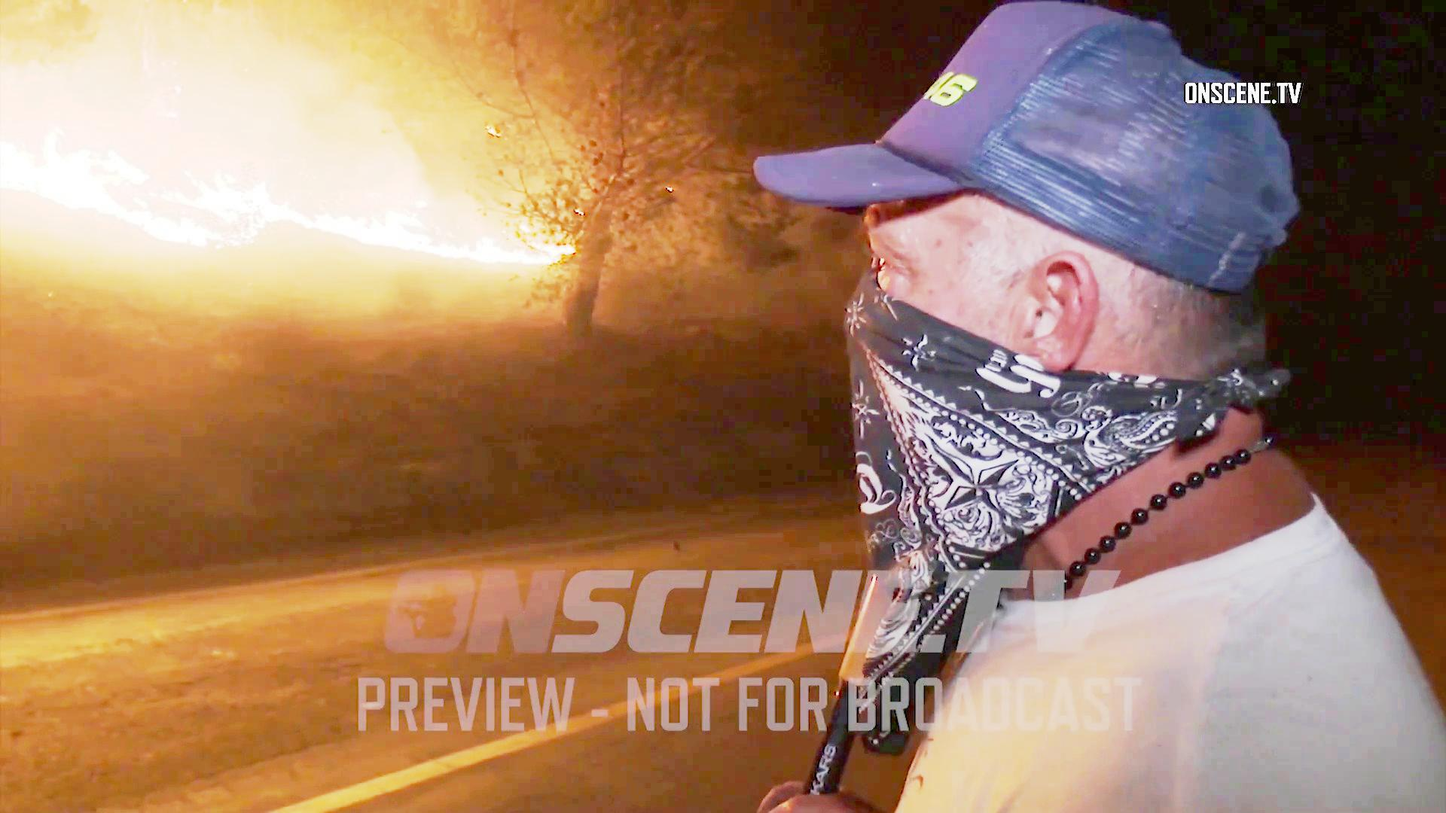fire: (0, 123, 251, 253)
